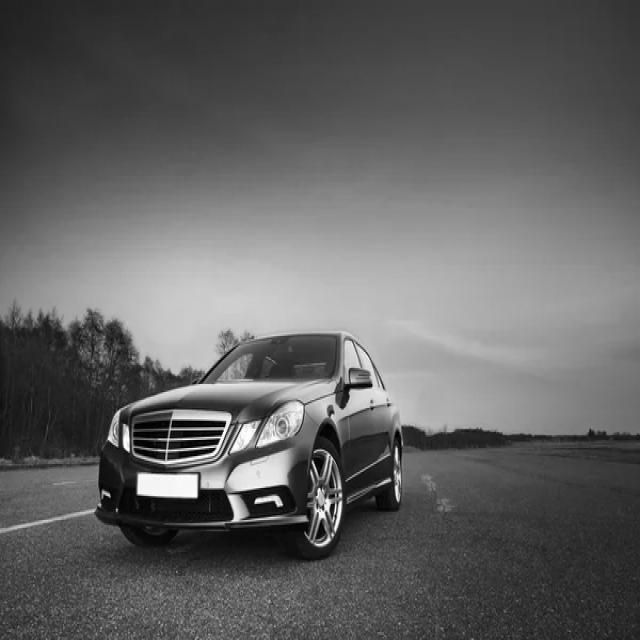Car: (96, 333, 403, 559)
